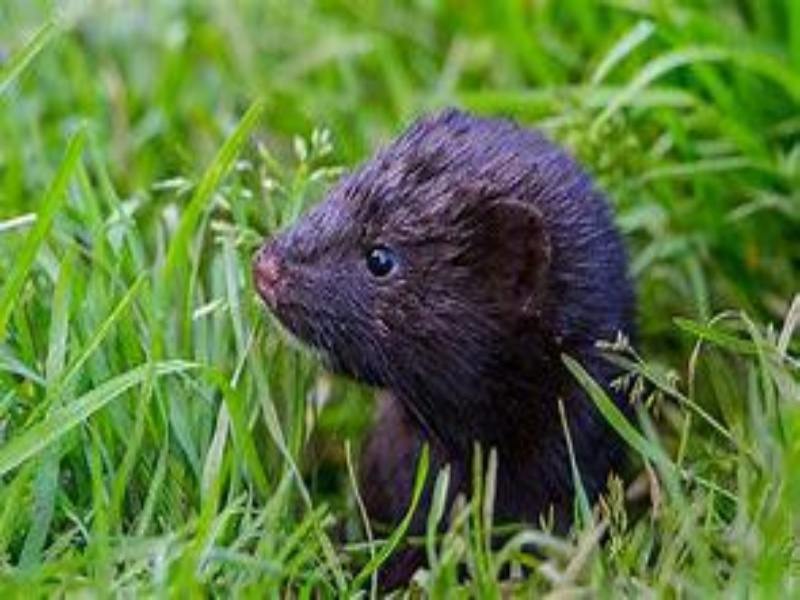minkish: (247, 104, 649, 584)
